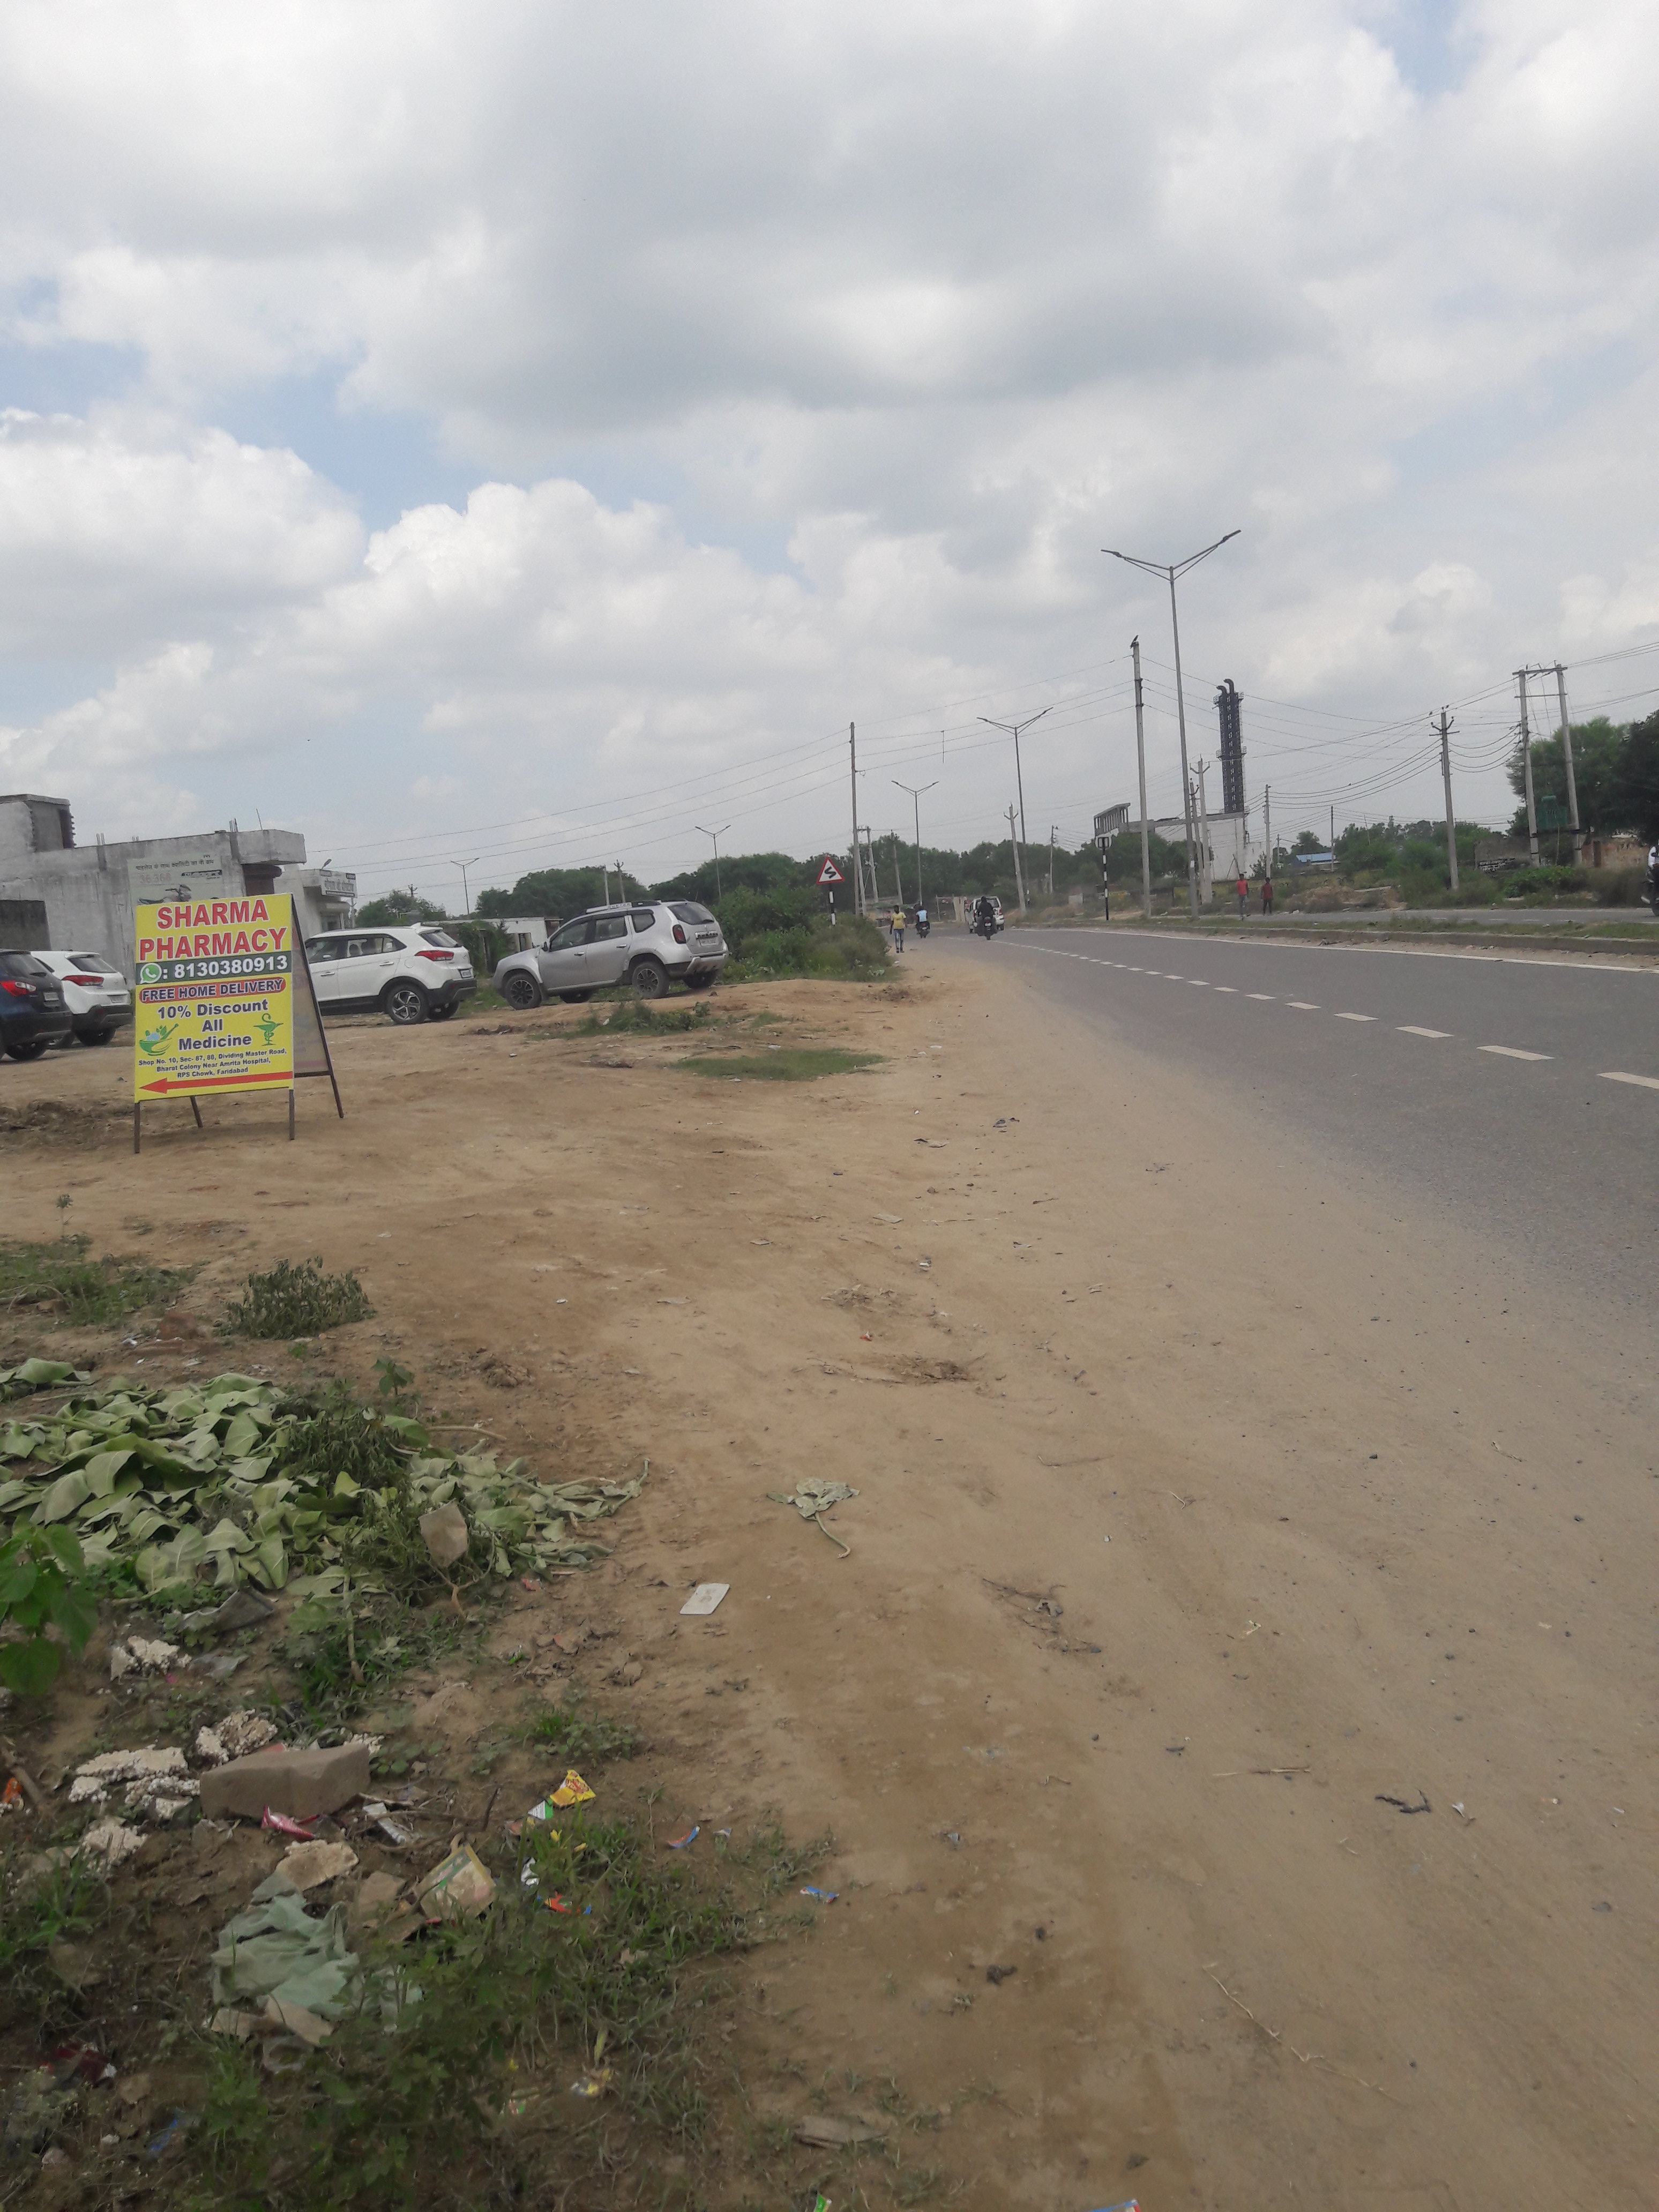traffic_sign: (817, 857, 845, 883)
